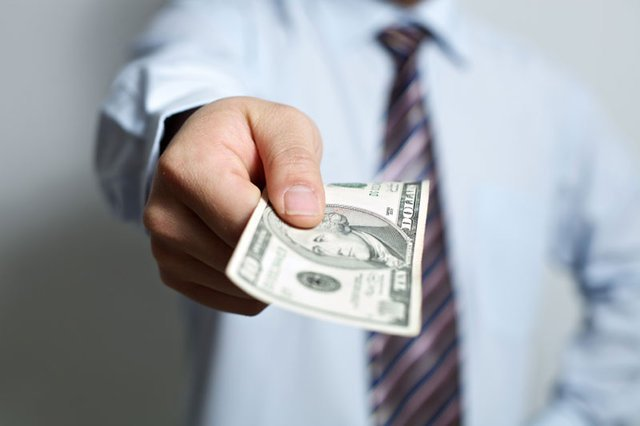billete: (222, 178, 432, 341)
